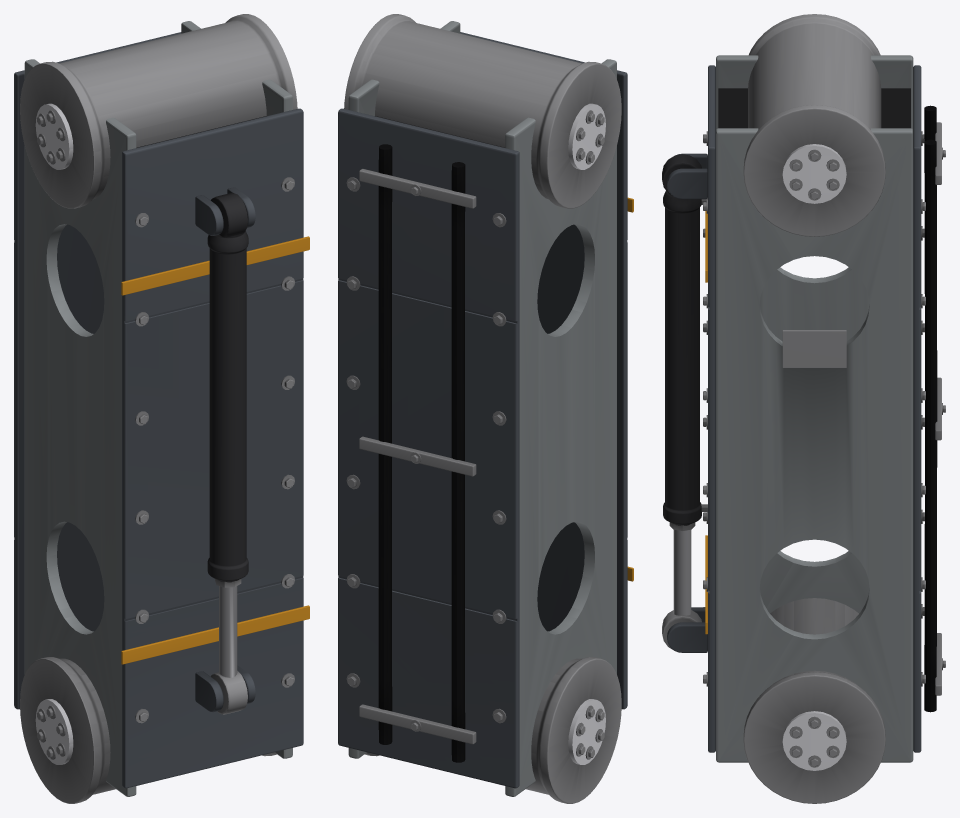
Rendered from bastion.drop_back.glb.
The picture shows the model from 3 angles, left to right: view 1: azimuth 30°, elevation 25°; view 2: azimuth 150°, elevation 25°; view 3: azimuth 270°, elevation 25°; orthographic projection. The views are drawn at different scales.
Bounding box in the file's own units: 1.06 × 3.35 × 1.24.
